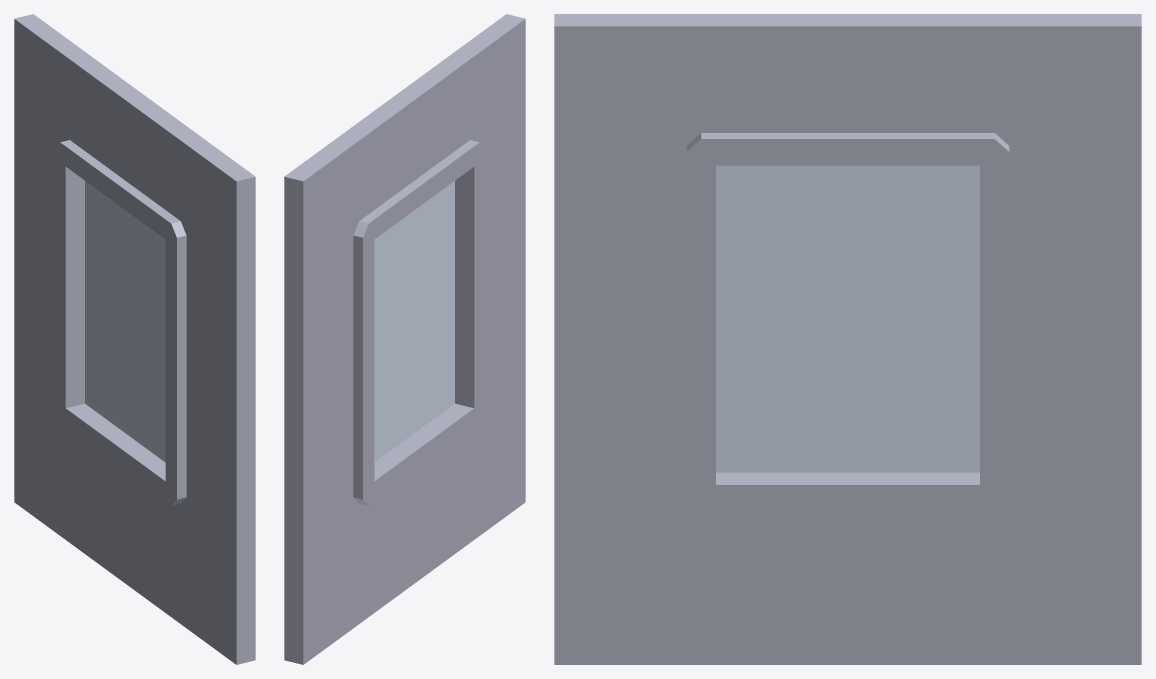
The model's file is wall-window-square.obj.
3 renders of one model, left to right at view 1: azimuth 30°, elevation 25°; view 2: azimuth 150°, elevation 25°; view 3: azimuth 270°, elevation 25°, orthographic. The views are drawn at different scales.
Bounding box in the file's own units: 0.2 × 2.4 × 2.
